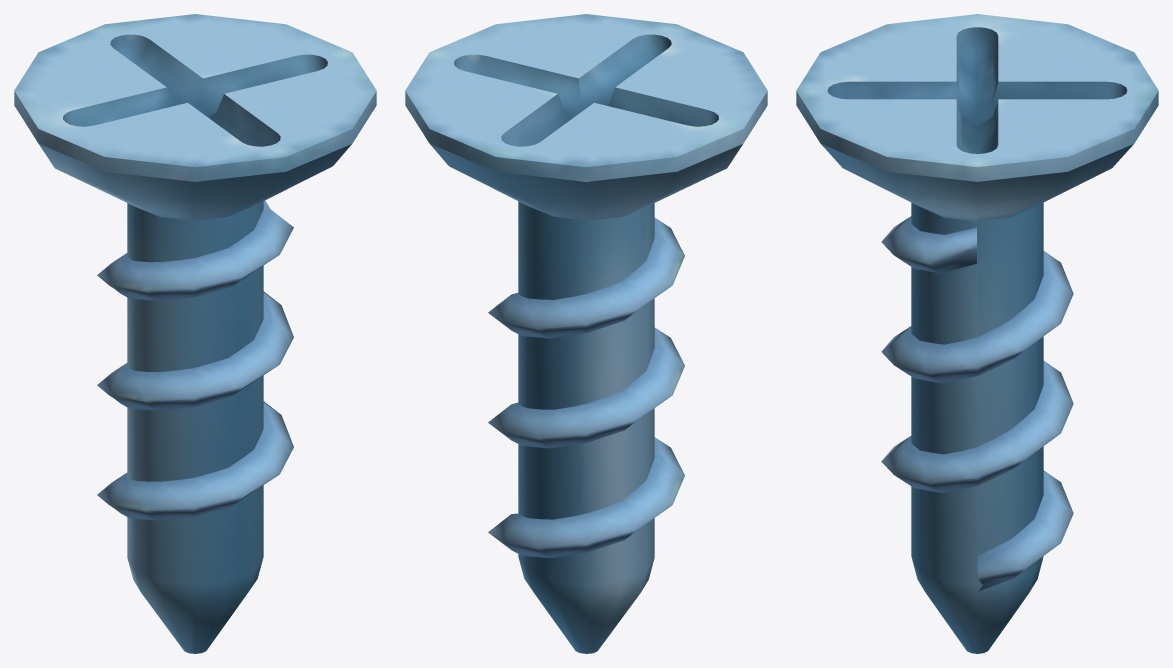
File: luosi01.FBX
3 renders of one model, left to right at view 1: azimuth 30°, elevation 25°; view 2: azimuth 150°, elevation 25°; view 3: azimuth 270°, elevation 25°, orthographic.
Parts seen in each view (by area): view 1: luosi01; view 2: luosi01; view 3: luosi01.
Part boxes in pixels (x1,y1,x2,y2): luosi01: (14,14,376,653); luosi01: (405,14,767,653); luosi01: (796,14,1158,653).
Bounding box in the file's own units: 9.04 × 15.49 × 9.04.
